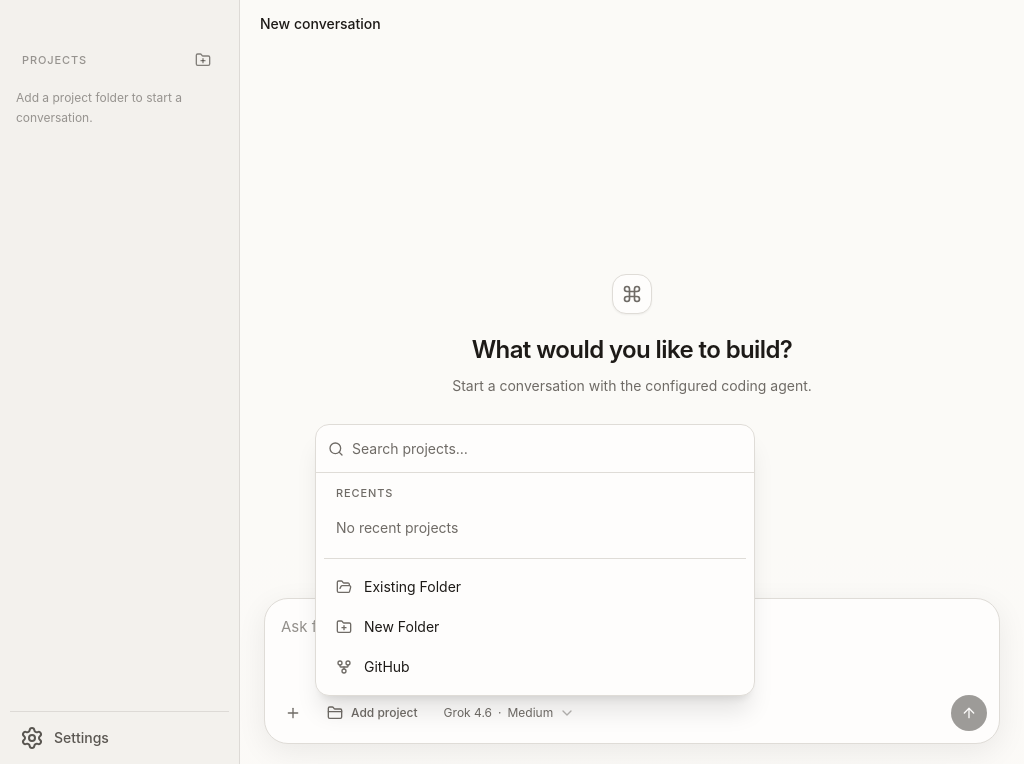
Test: App › sets and deletes provider keys without reading saved values
Step 1. Click the link "Settings" → (64, 738), box [20, 726, 109, 750]
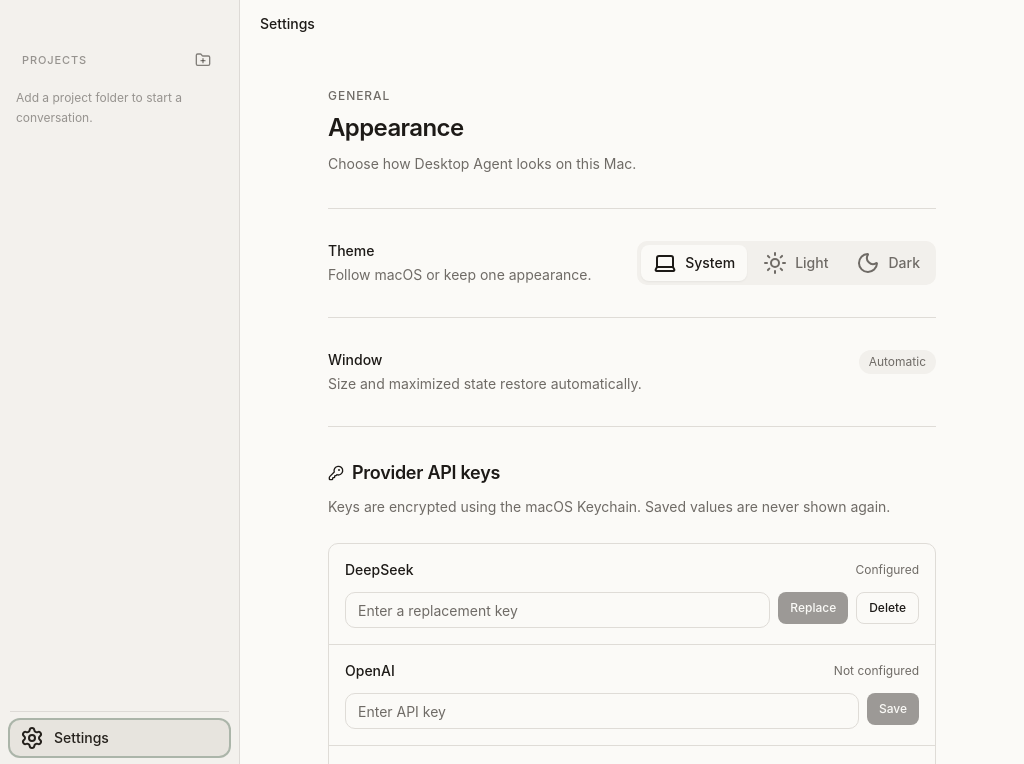
Check: the form named "OpenAI credentials" shows "Not configured", box [834, 663, 919, 678]
Step 2. Type "sk-renderer-test" into the password field labelled "OpenAI" → (602, 711), box [345, 693, 859, 729]
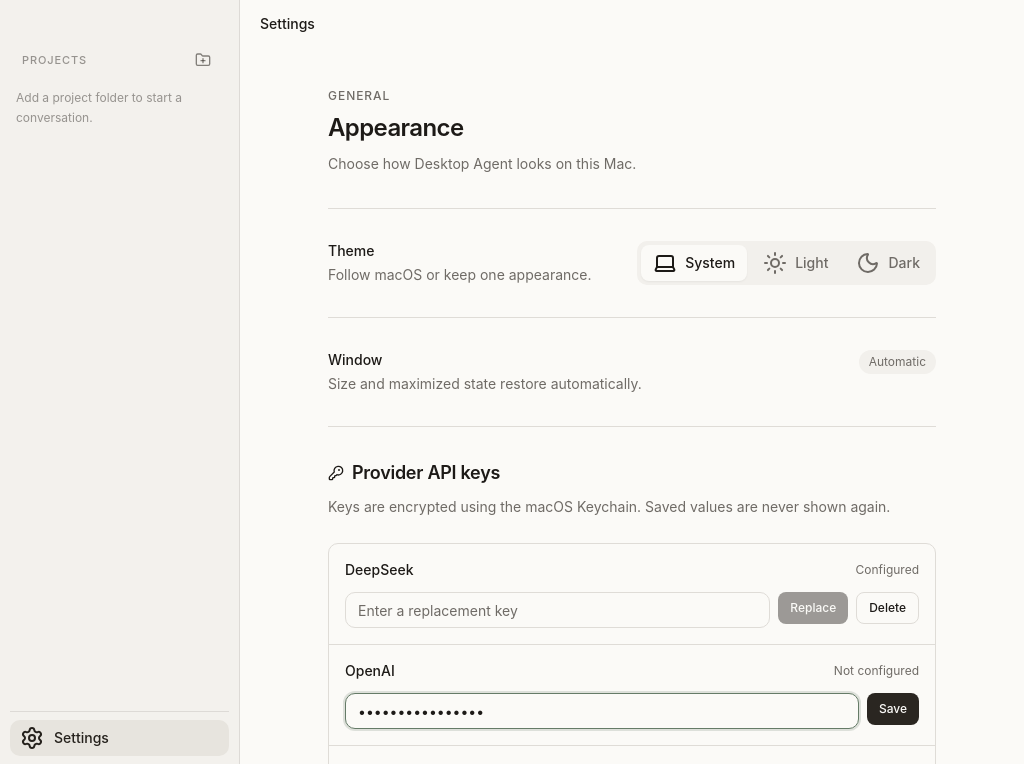
Step 3. Click the button "Save" → (893, 709), box [867, 693, 919, 725]
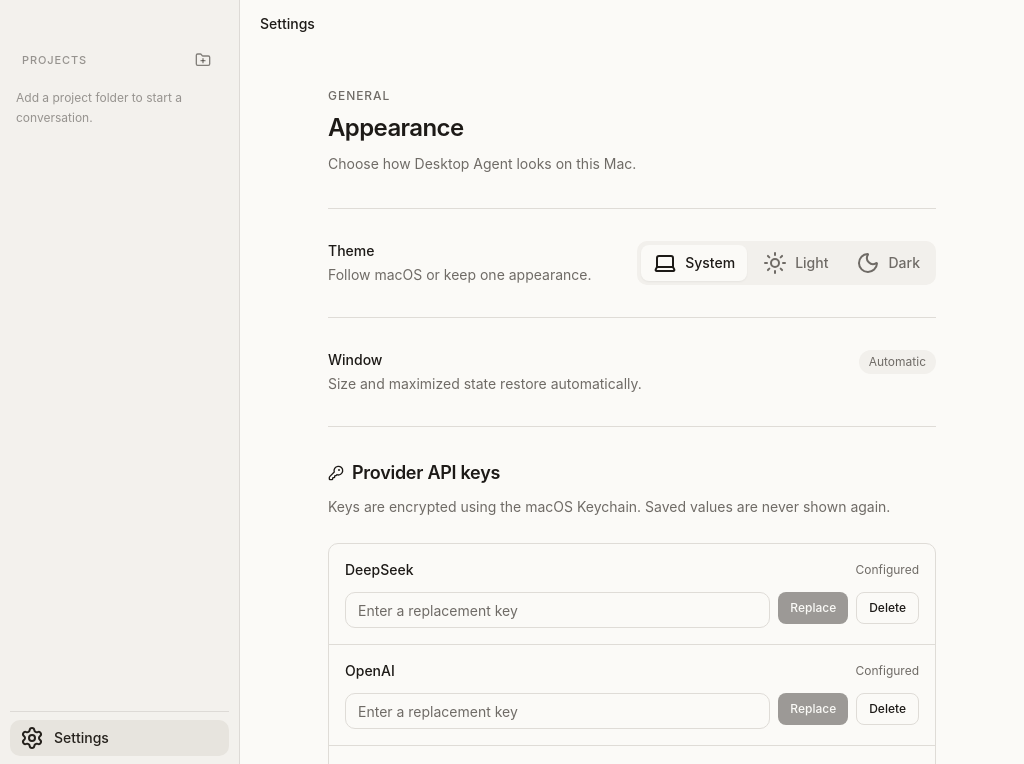
Check: the form named "OpenAI credentials" shows "Configured", box [856, 663, 919, 678]
Check: the password field labelled "OpenAI" is empty, box [345, 693, 770, 729]
Step 4. Click the 2nd button "Delete" → (888, 709), box [856, 693, 919, 725]
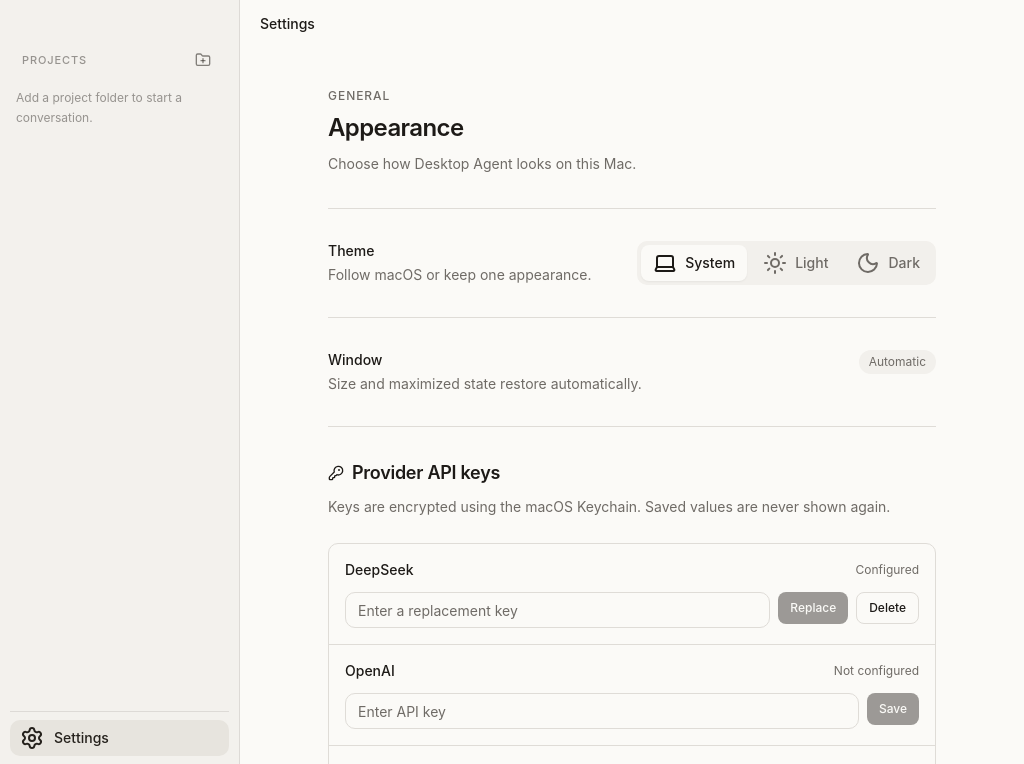
Check: the form named "OpenAI credentials" shows "Not configured", box [834, 663, 919, 678]
